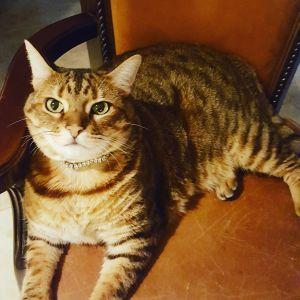bengal: (15, 34, 149, 169)
